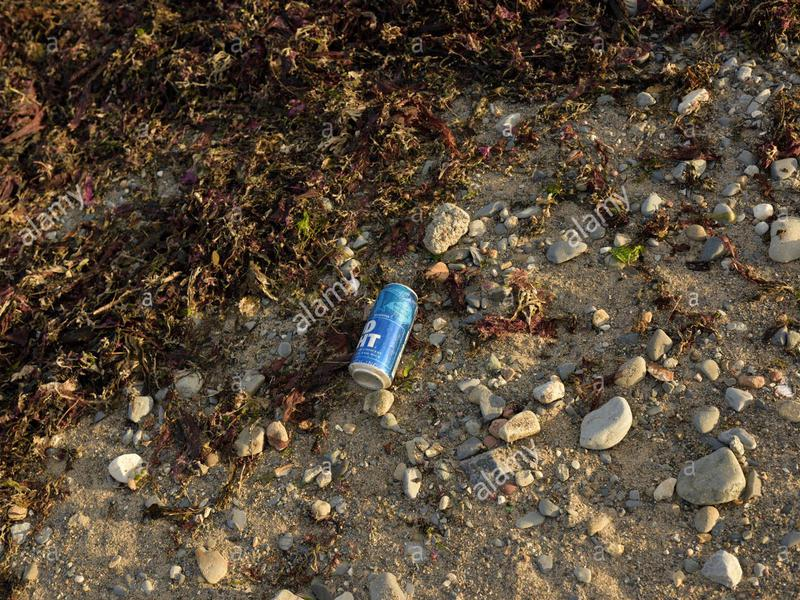can: (340, 278, 424, 395)
